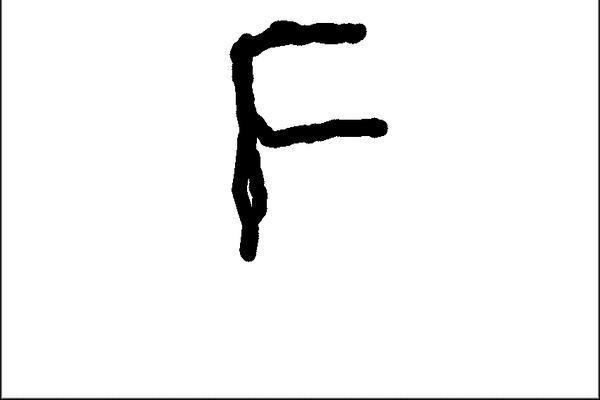F: (224, 16, 391, 266)
